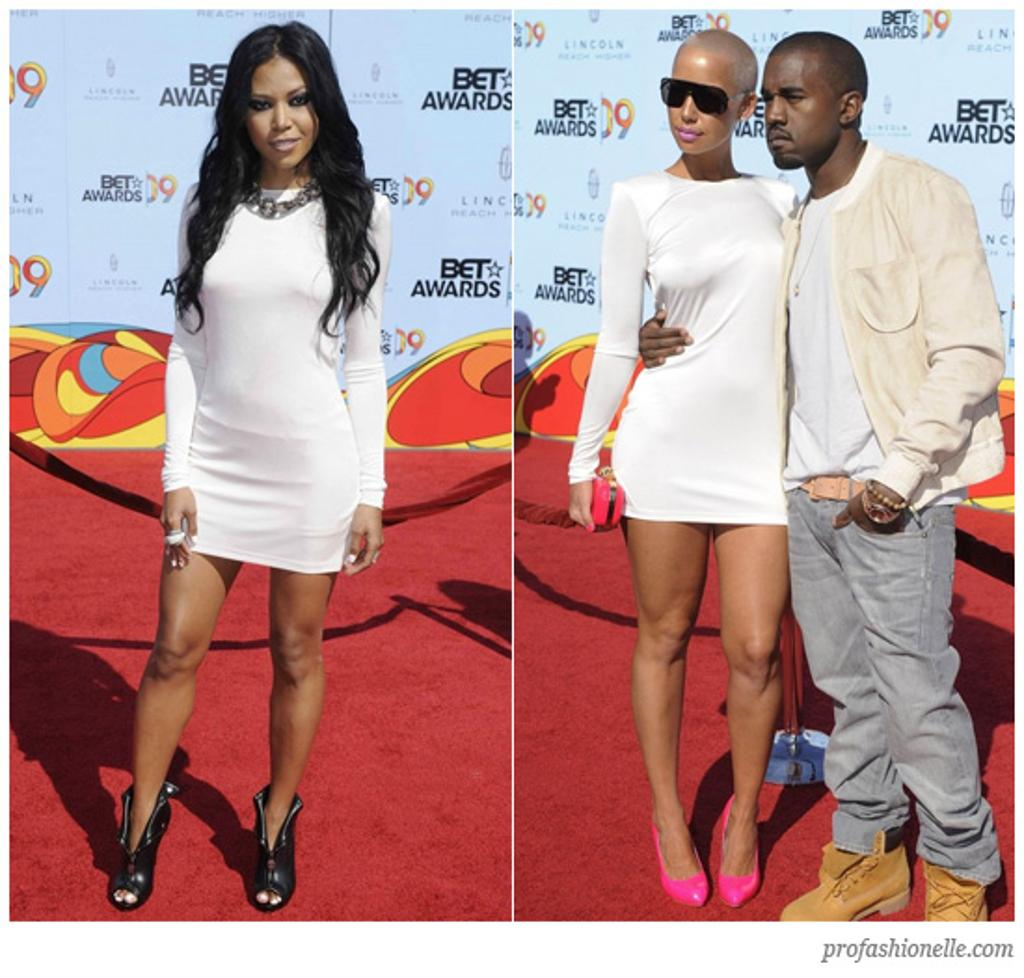face: (762, 48, 842, 166), (240, 56, 318, 166), (666, 44, 728, 152)
